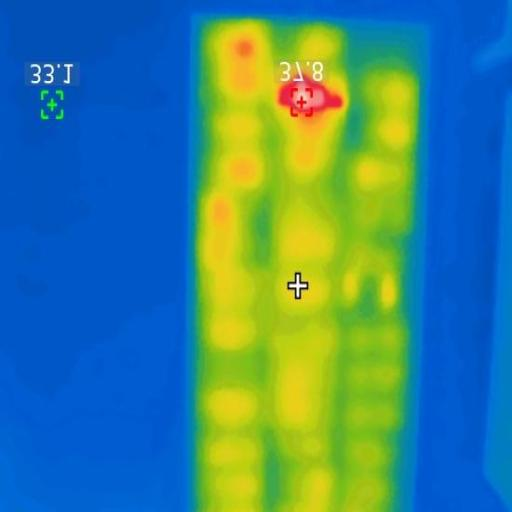hotspot: (282, 84, 332, 110)
